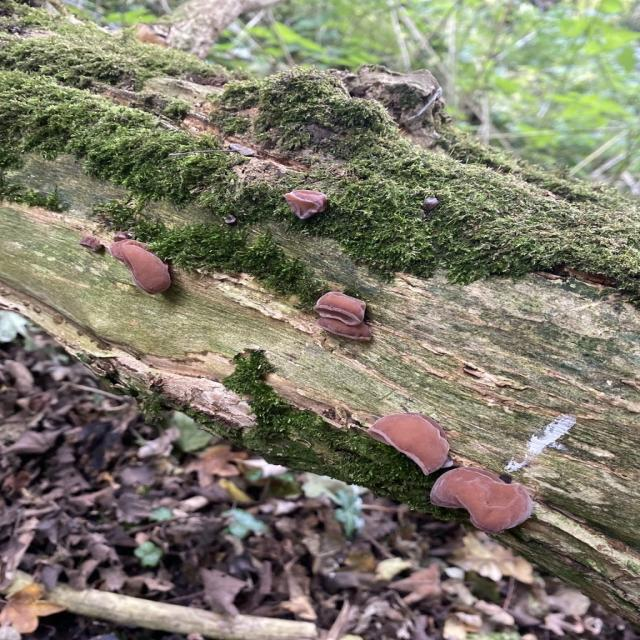Matang: (422, 466, 542, 543), (364, 409, 456, 479), (101, 236, 175, 297), (305, 316, 388, 348), (281, 184, 334, 223), (313, 290, 372, 321)
